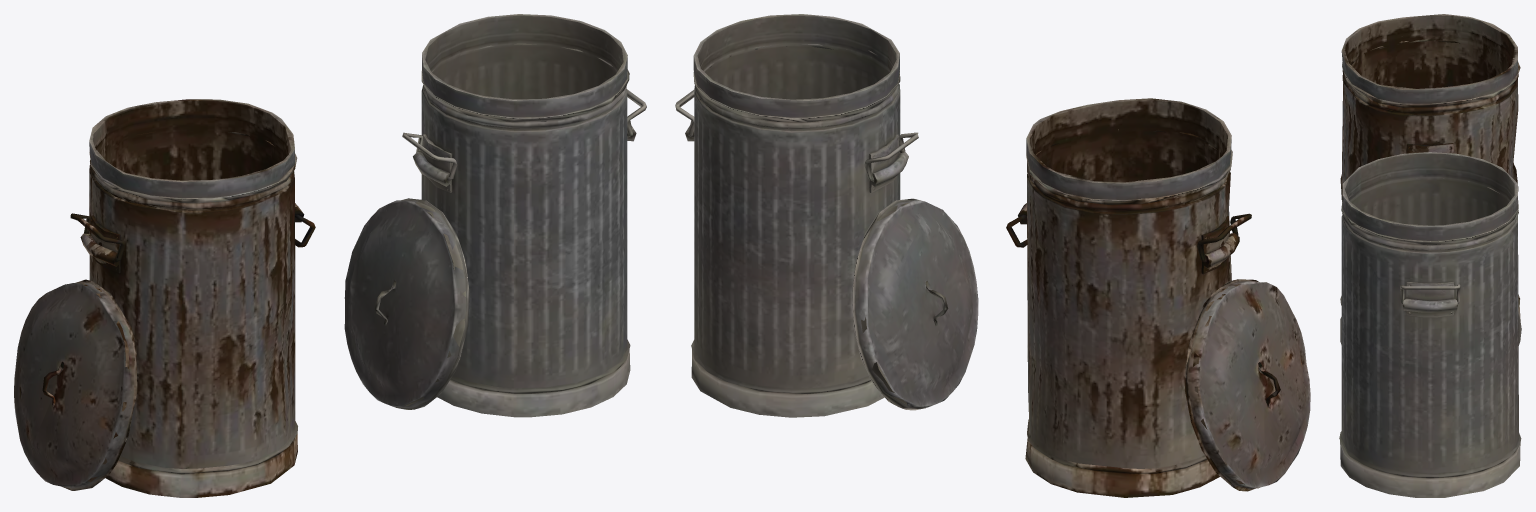
File: metal_trash_can.glb
3 renders of one model, left to right at view 1: azimuth 30°, elevation 25°; view 2: azimuth 150°, elevation 25°; view 3: azimuth 270°, elevation 25°, orthographic. The views are drawn at different scales.
Parts seen in each view (by area): view 1: metal_trash_can, metal_trash_can_rust, metal_trash_can_lid, metal_trash_can_rust_lid; view 2: metal_trash_can, metal_trash_can_rust, metal_trash_can_lid, metal_trash_can_rust_lid; view 3: metal_trash_can, metal_trash_can_rust, metal_trash_can_handle_right.
Boxes of the visible parts, left/top/right/bottom form: metal_trash_can: left=413, top=14, right=636, bottom=417; metal_trash_can_rust: left=80, top=99, right=304, bottom=497; metal_trash_can_lid: left=344, top=198, right=469, bottom=409; metal_trash_can_rust_lid: left=14, top=279, right=137, bottom=490; metal_trash_can: left=685, top=14, right=908, bottom=417; metal_trash_can_rust: left=1018, top=98, right=1239, bottom=497; metal_trash_can_lid: left=852, top=198, right=978, bottom=410; metal_trash_can_rust_lid: left=1184, top=279, right=1310, bottom=491; metal_trash_can: left=1339, top=152, right=1521, bottom=497; metal_trash_can_rust: left=1340, top=14, right=1520, bottom=319; metal_trash_can_handle_right: left=1400, top=284, right=1460, bottom=303.
Size of the model in its own units: 1.78 by 0.9062 by 0.5533.
Materials: 2 (2 with a texture image).
